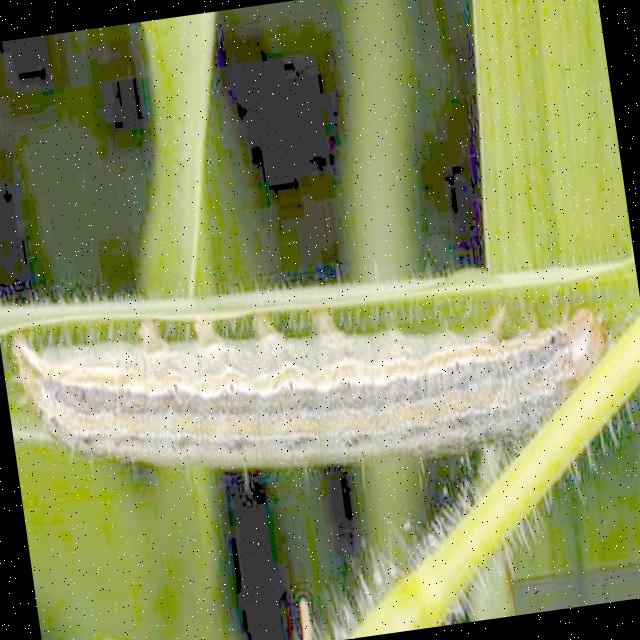worm: (11, 256, 625, 516)
